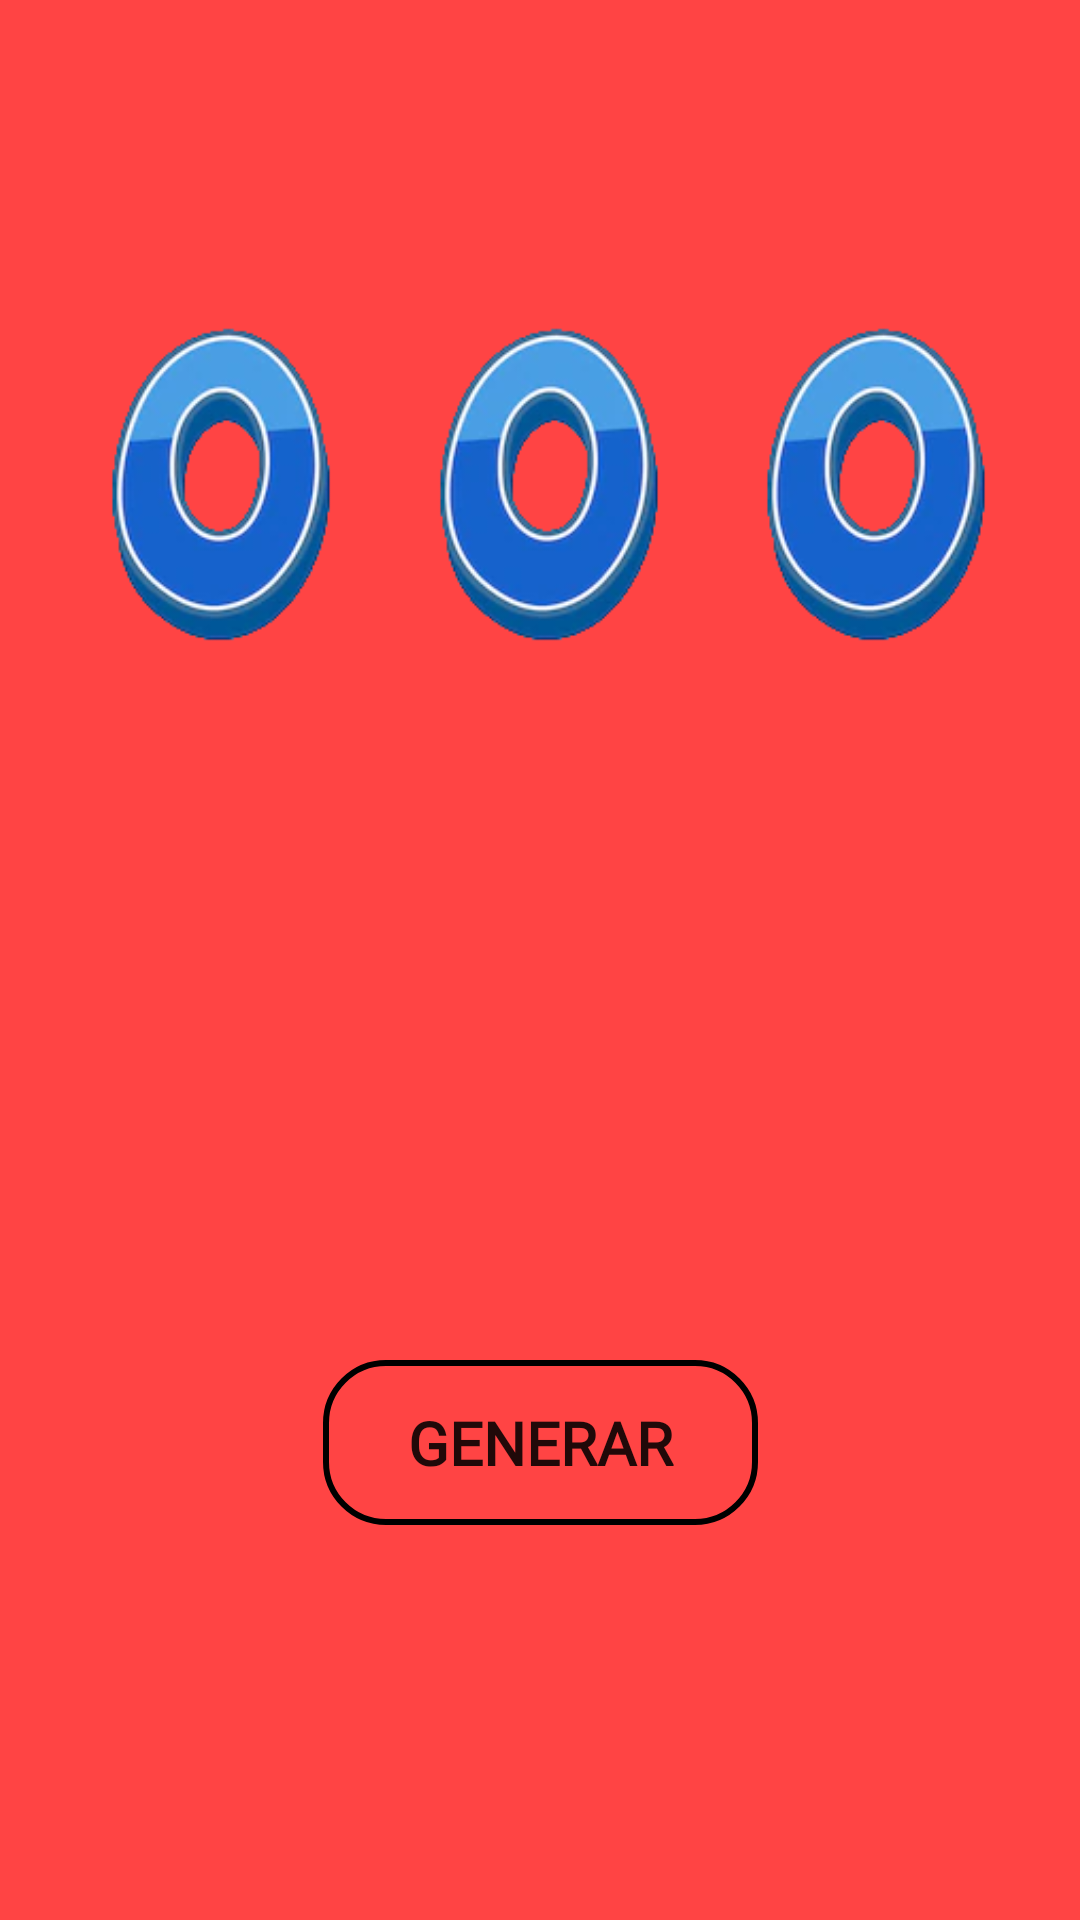

Icon click points for this 1080px×1920px phone screenshot, format [x,y]:
cero: [221,484], [549,484], [876,484]
